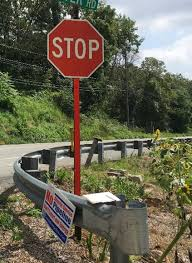SS: (46, 19, 106, 79)
